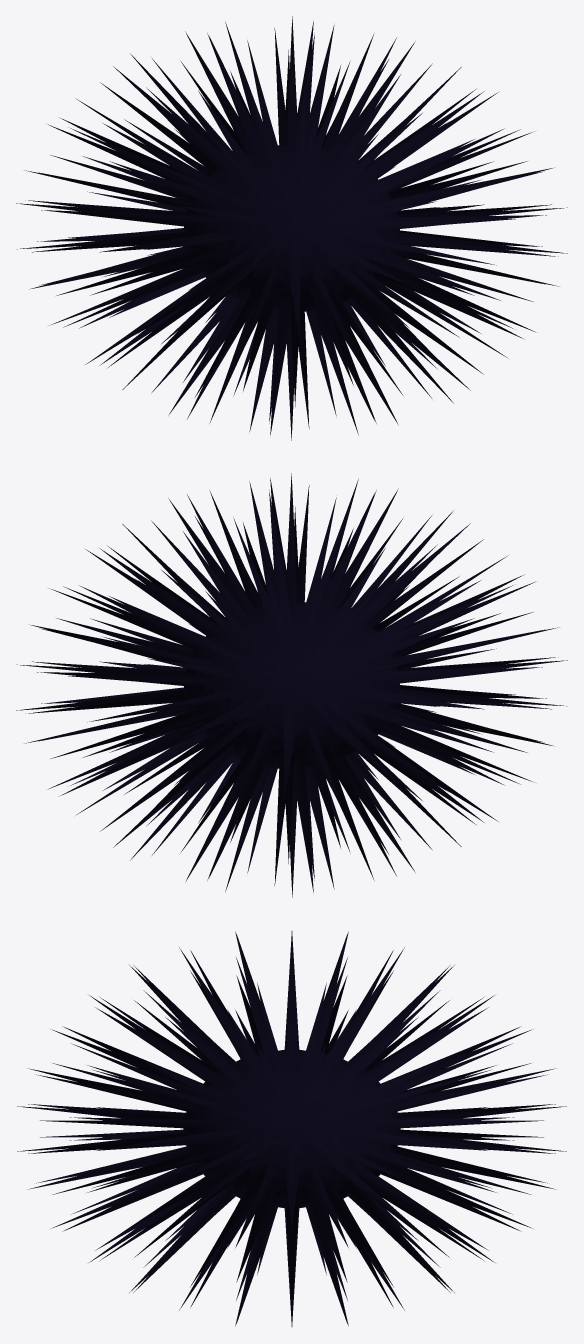
File: sea_urchin.FBX
3 views of the same model, one above another, from view 1: azimuth 30°, elevation 25°; view 2: azimuth 150°, elevation 25°; view 3: azimuth 270°, elevation 25° (orthographic). The views are drawn at different scales.
Parts seen in each view (by area): view 1: GeoSphere01; view 2: GeoSphere01; view 3: GeoSphere01.
Boxes of the visible parts, x1,y1,x2,y2 form: GeoSphere01: (16, 16, 567, 440); GeoSphere01: (16, 473, 567, 897); GeoSphere01: (17, 931, 566, 1326).
Size of the model in its own units: 615 by 426 by 644.
